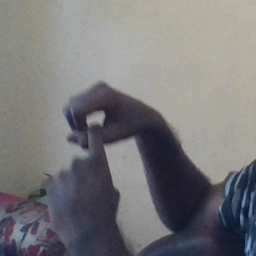Q: (40, 79, 140, 219)
